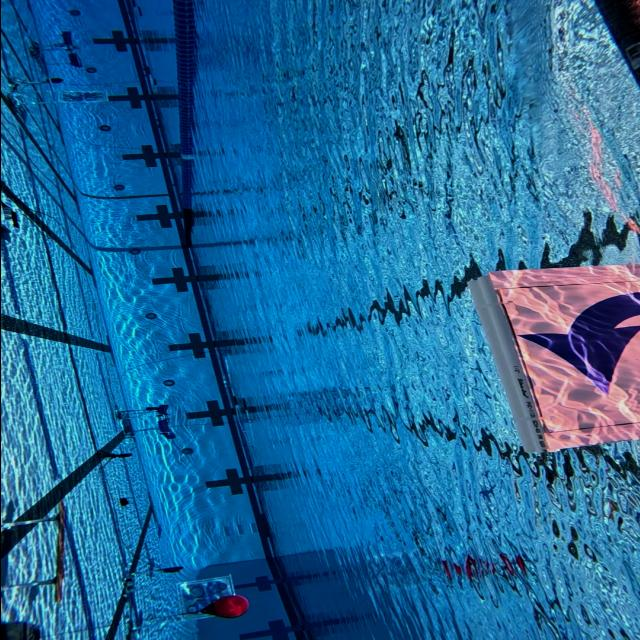blue_side: (518, 260, 640, 438)
